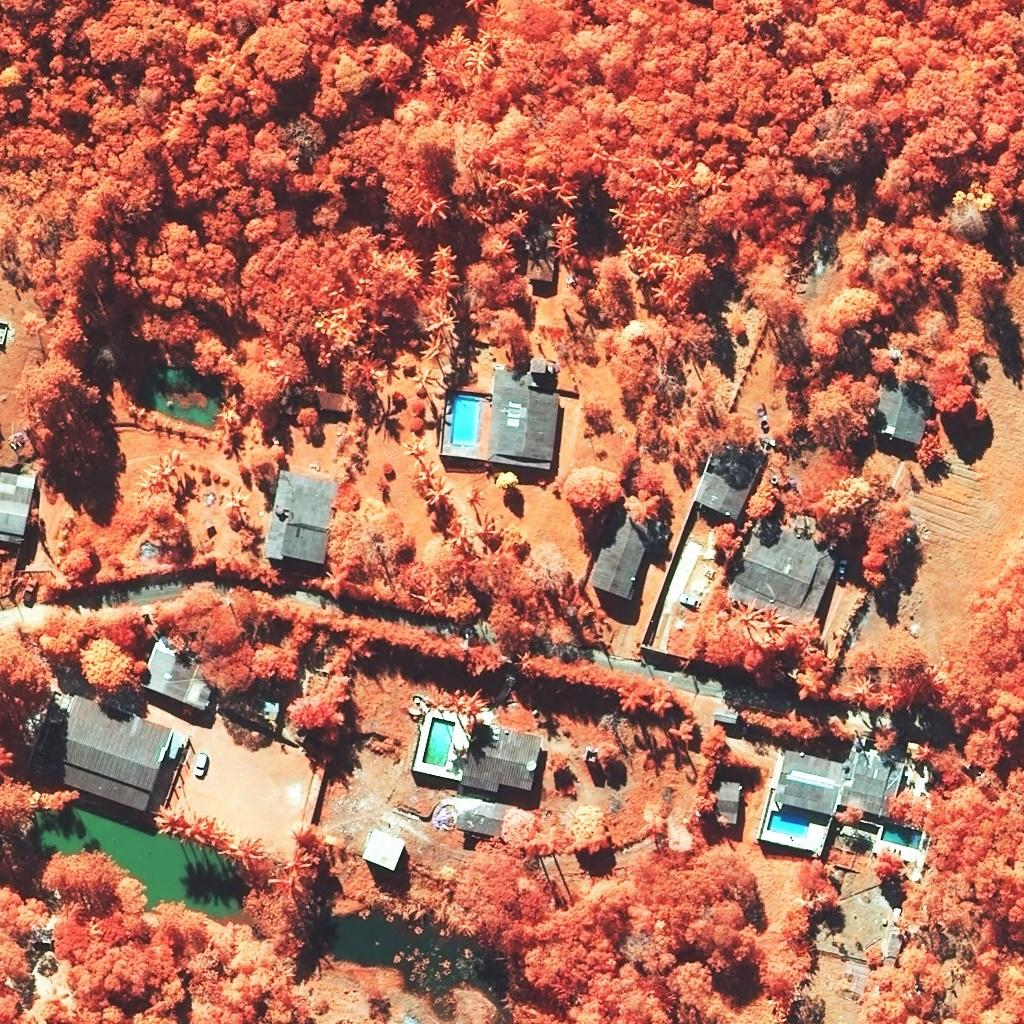pool: (422, 717, 455, 768), (451, 396, 480, 445), (767, 810, 810, 839), (881, 822, 922, 850)
